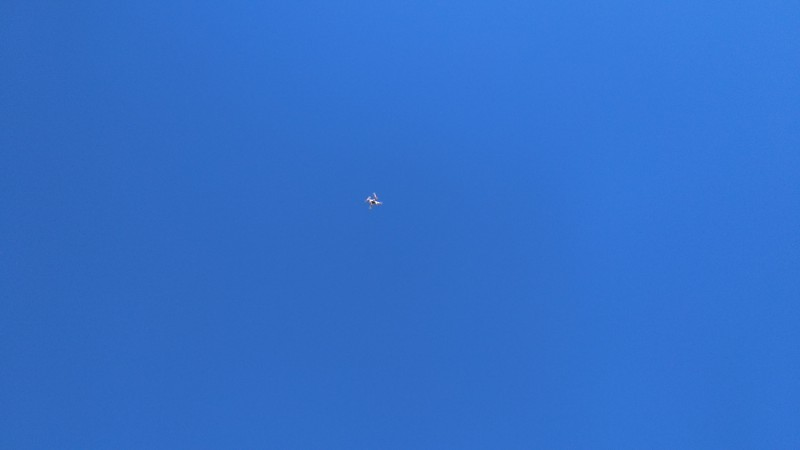drone: (364, 192, 382, 212)
